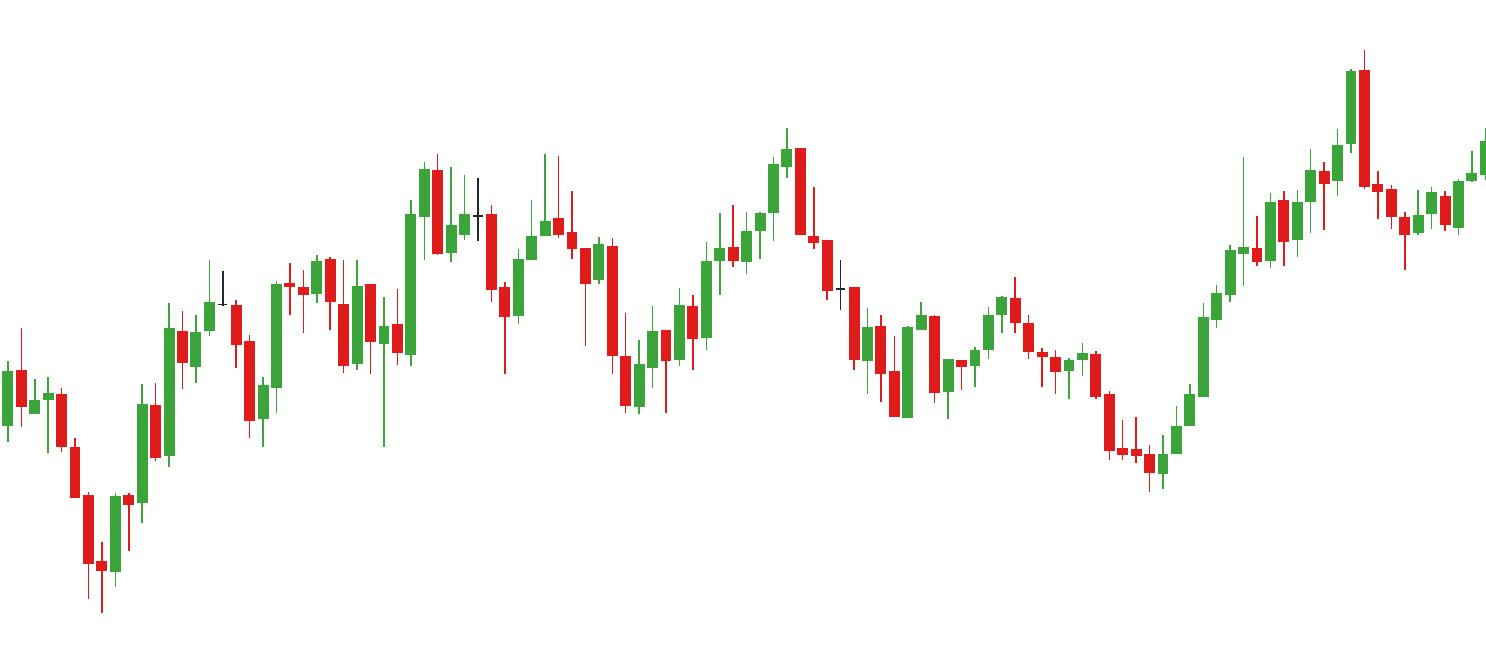buy: (497, 260, 645, 415)
sell: (913, 274, 1022, 377), (459, 155, 551, 256)
